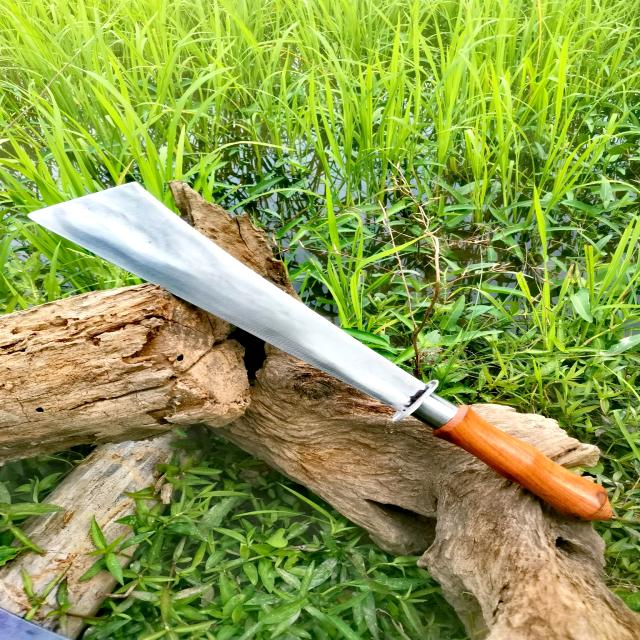eto: (7, 170, 638, 534)
